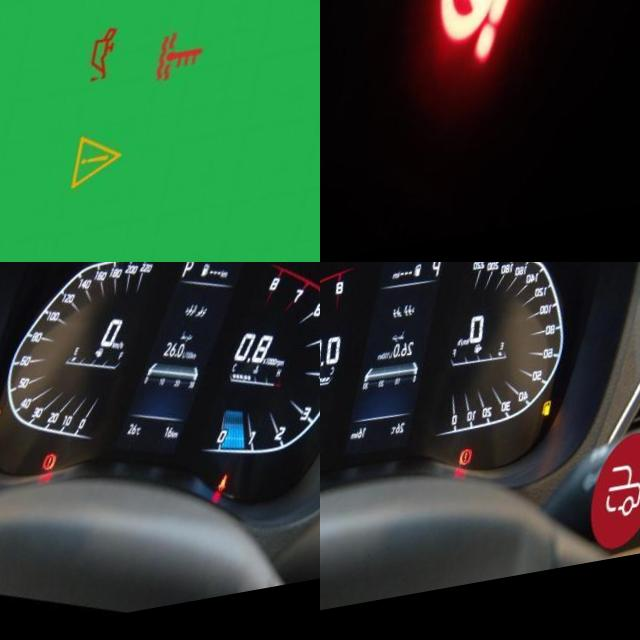Electronic Power Steering: (435, 0, 558, 103)
Seat Belt: (238, 488, 250, 504)
